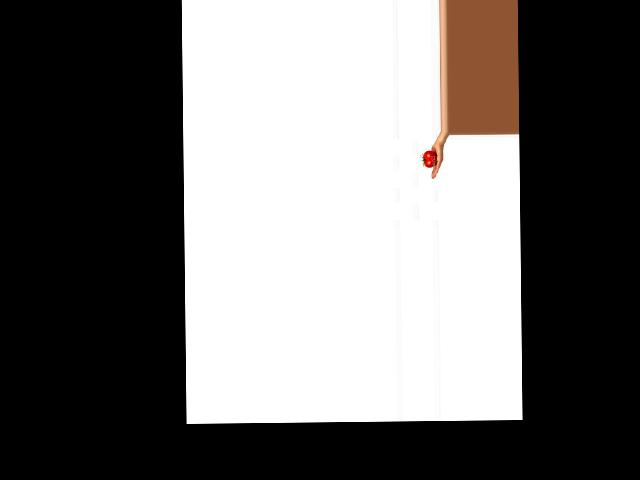tomato: (423, 150, 437, 167)
